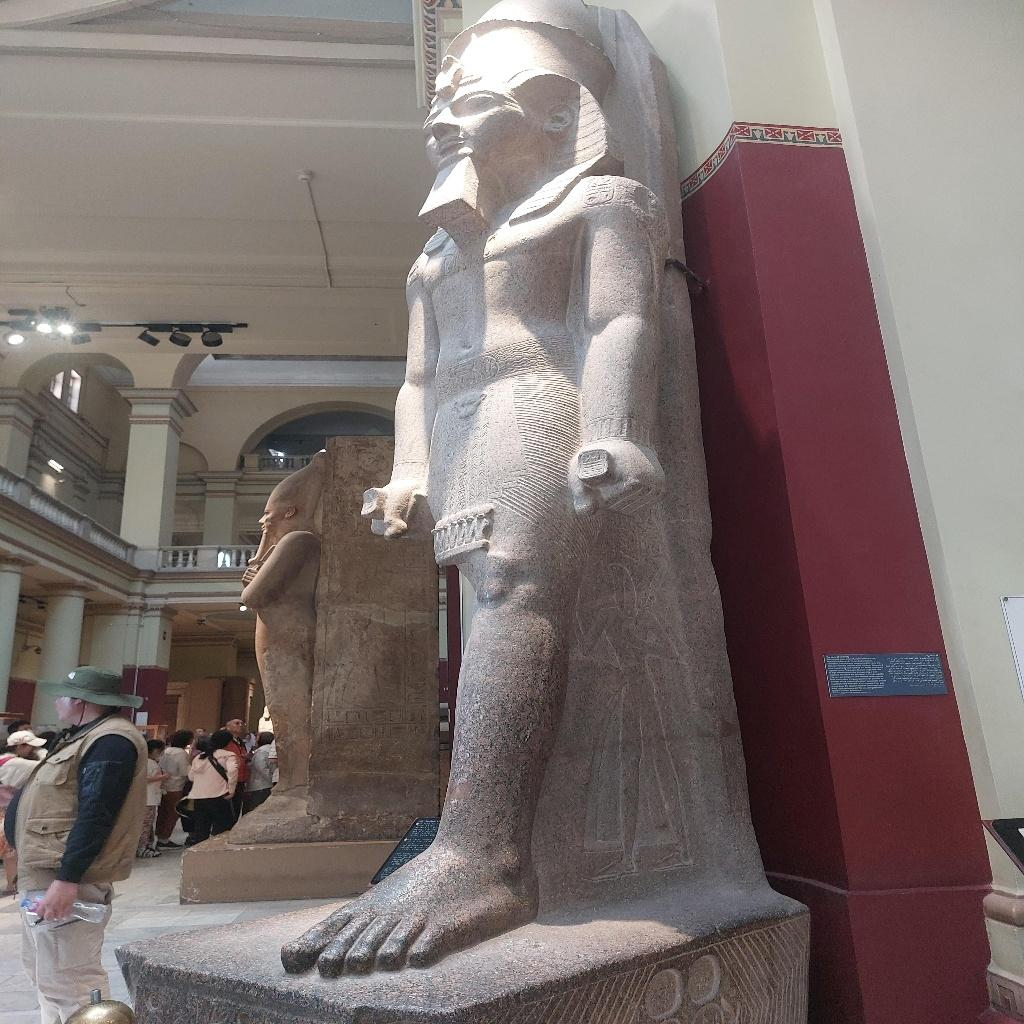Colossal Statue of Ramesses II: (274, 2, 806, 982)
